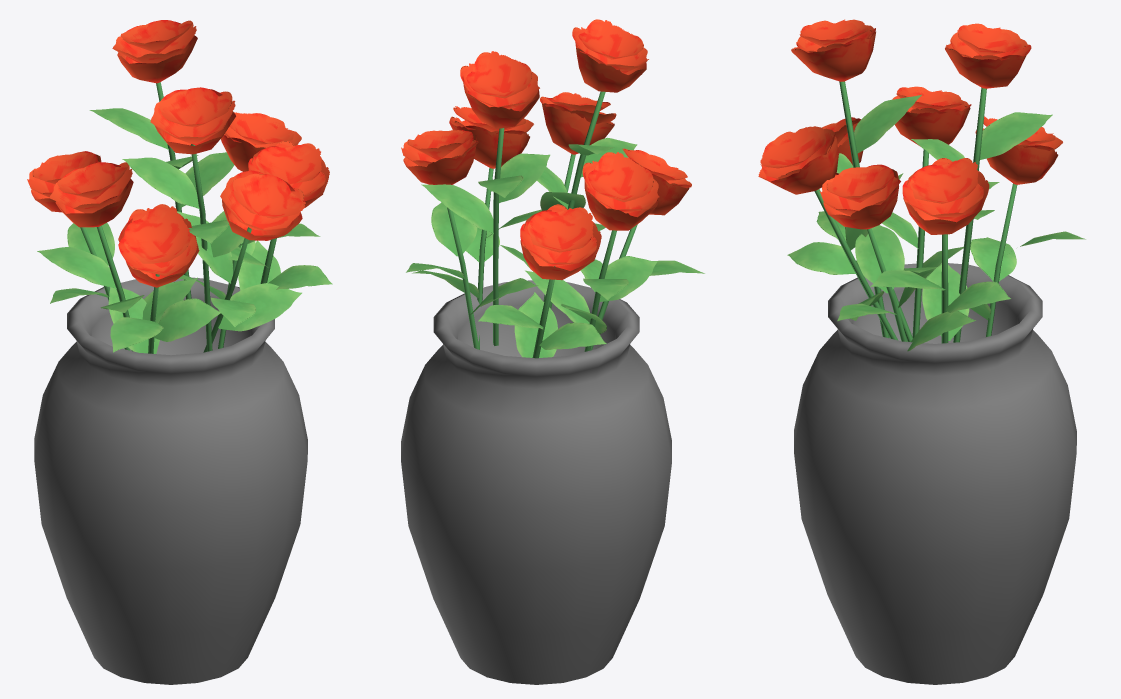
Rendered from SM_flowerpot_06.fbx.
The picture shows the model from 3 angles, left to right: view 1: azimuth 30°, elevation 25°; view 2: azimuth 150°, elevation 25°; view 3: azimuth 270°, elevation 25°; orthographic projection. The views are drawn at different scales.
Visible parts, largest first — view 1: Cylinder424246; view 2: Cylinder424246; view 3: Cylinder424246.
Part boxes in pixels (bbox=[...]): Cylinder424246: bbox=[27, 20, 332, 684]; Cylinder424246: bbox=[401, 19, 704, 684]; Cylinder424246: bbox=[758, 19, 1085, 684].
Bounding box in the file's own units: 31.57 × 64.1 × 33.1.
